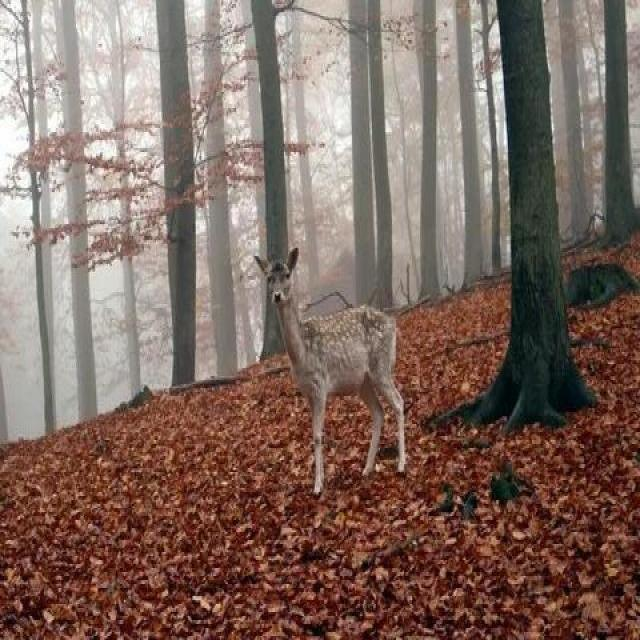deer: (250, 224, 420, 511)
